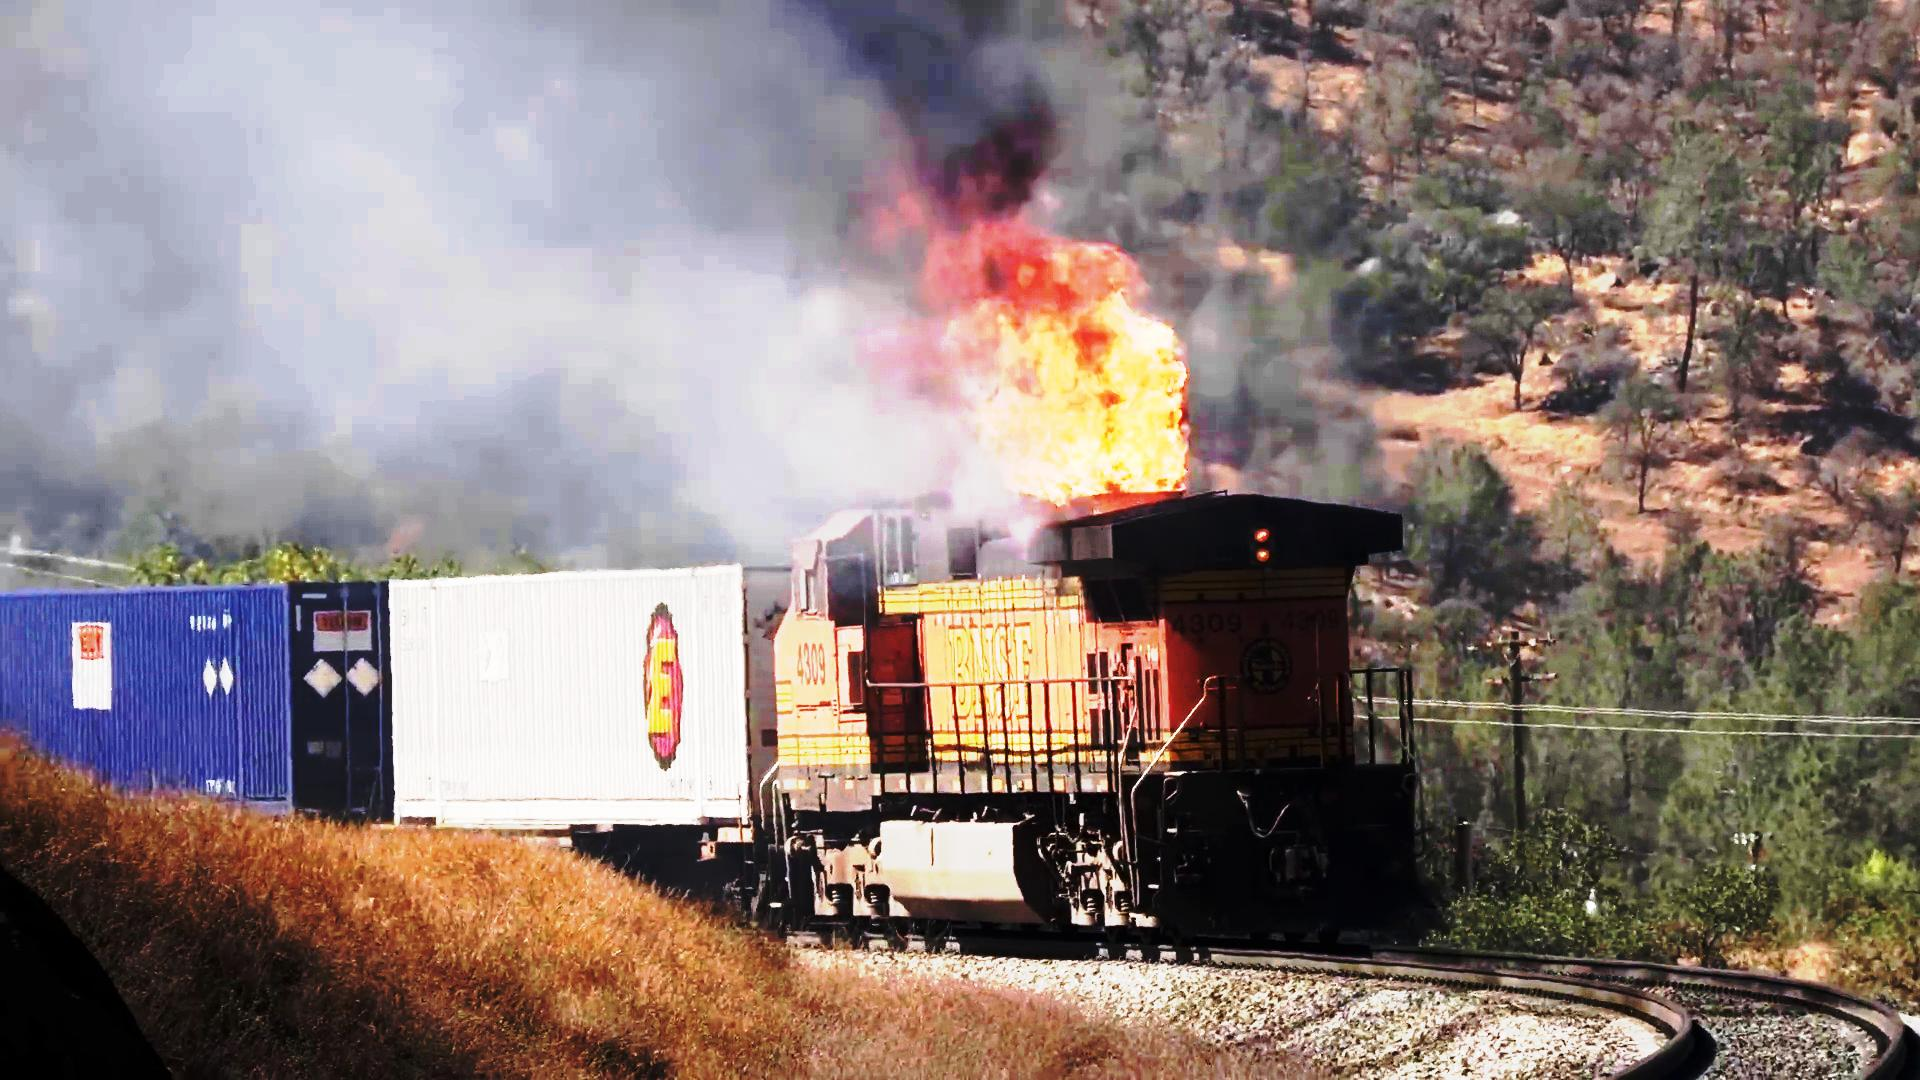fire: (895, 138, 1199, 505)
smoke: (67, 0, 825, 433)
